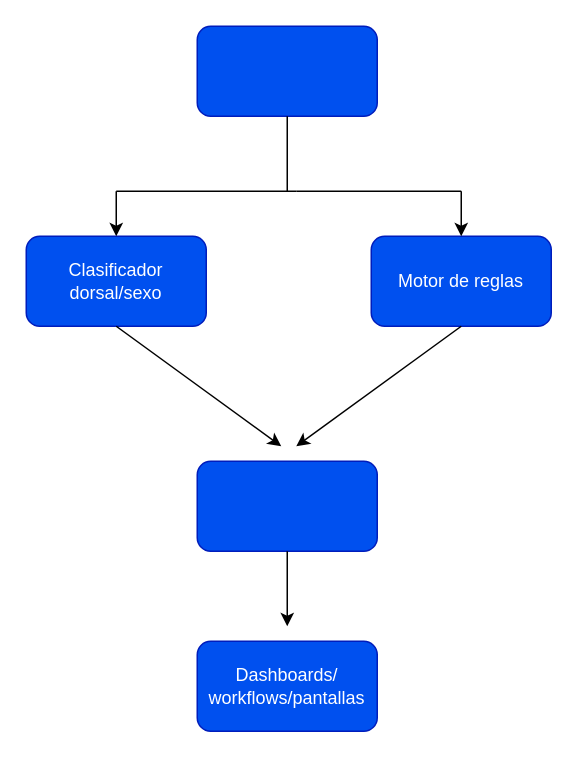
Image size: 578x758. Some labels were removed from this diagram. The shapes that lost their labels are listed below. From the top down, each one's box as (x1, y1, x2, y2) in pixels, then its label:
(196, 25, 377, 116): Simulación / Datos Copernico
(196, 460, 377, 551): Orquestación del sistema
